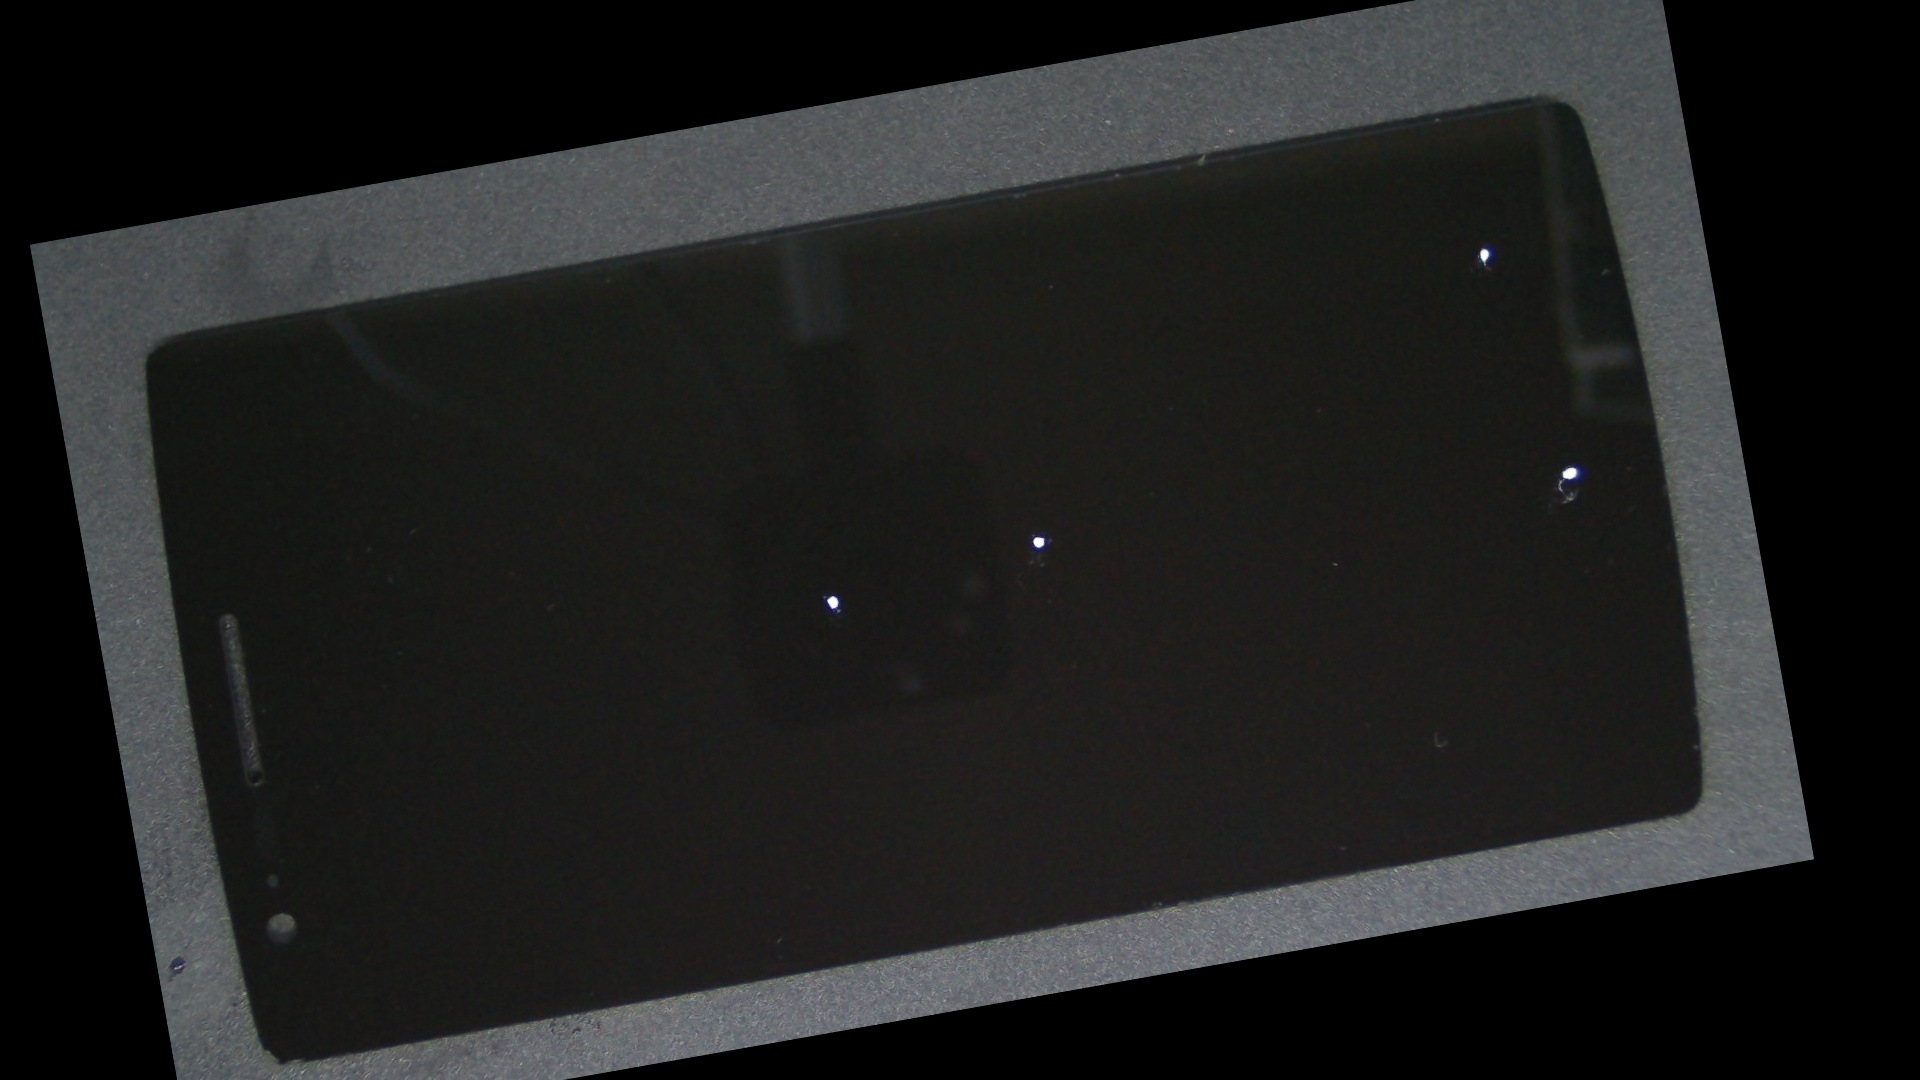oil: (800, 196, 1782, 831), (531, 227, 1535, 844), (431, 293, 1230, 895), (757, 82, 1722, 498)
